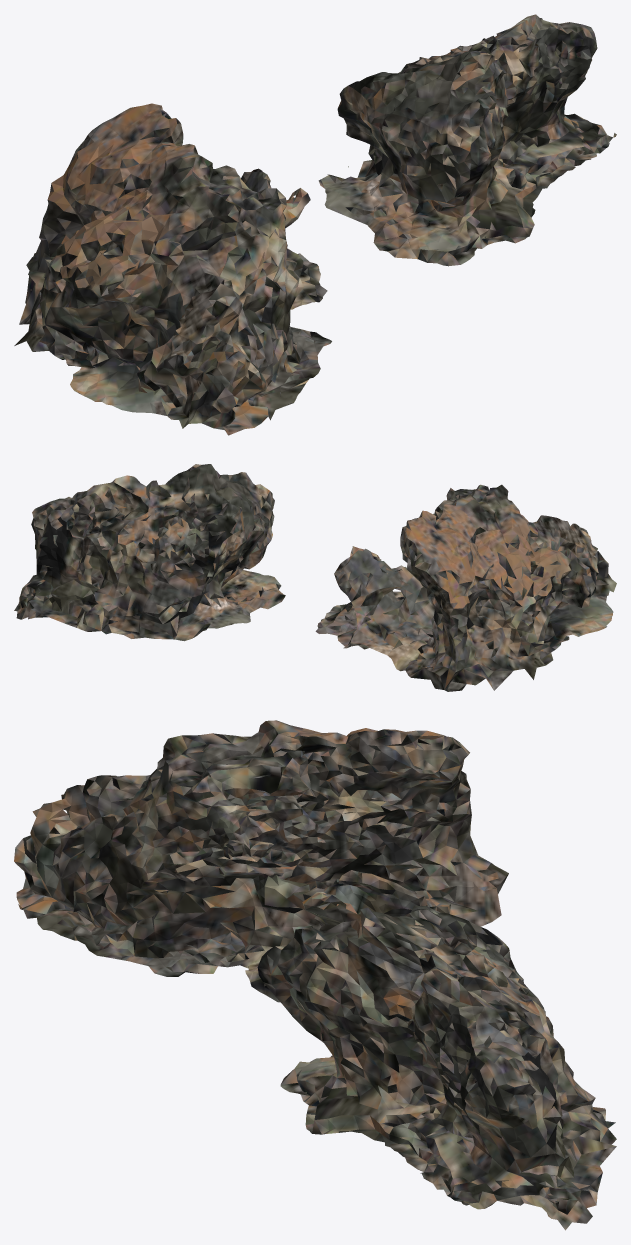
The model's file is jaggedrock_texture.dae.
The picture shows the model from 3 angles, top to bottom: view 1: azimuth 30°, elevation 25°; view 2: azimuth 150°, elevation 25°; view 3: azimuth 270°, elevation 25°; orthographic projection. The views are drawn at different scales.
Parts seen in each view (by area): view 1: BEACH_ROCK_3_10K; view 2: BEACH_ROCK_3_10K; view 3: BEACH_ROCK_3_10K.
Part boxes in pixels (x1,y1,x2,y2): BEACH_ROCK_3_10K: (14, 14, 616, 435); BEACH_ROCK_3_10K: (14, 464, 616, 691); BEACH_ROCK_3_10K: (14, 720, 616, 1230).
Size of the model in its own units: 6.05 by 4.07 by 1.72.
Materials: 1 (1 with a texture image).
